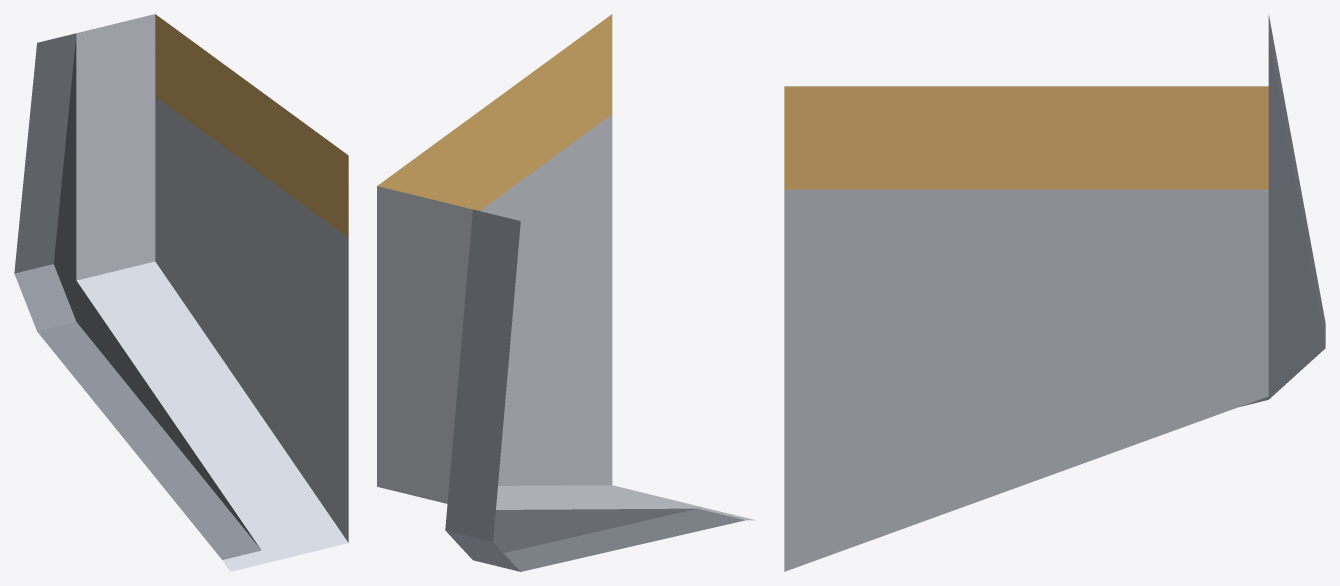
3 views of the same model, side by side, from view 1: azimuth 30°, elevation 25°; view 2: azimuth 150°, elevation 25°; view 3: azimuth 270°, elevation 25° (orthographic). The views are drawn at different scales.
Bounding box in the file's own units: 0.3 × 0.94 × 0.95.
